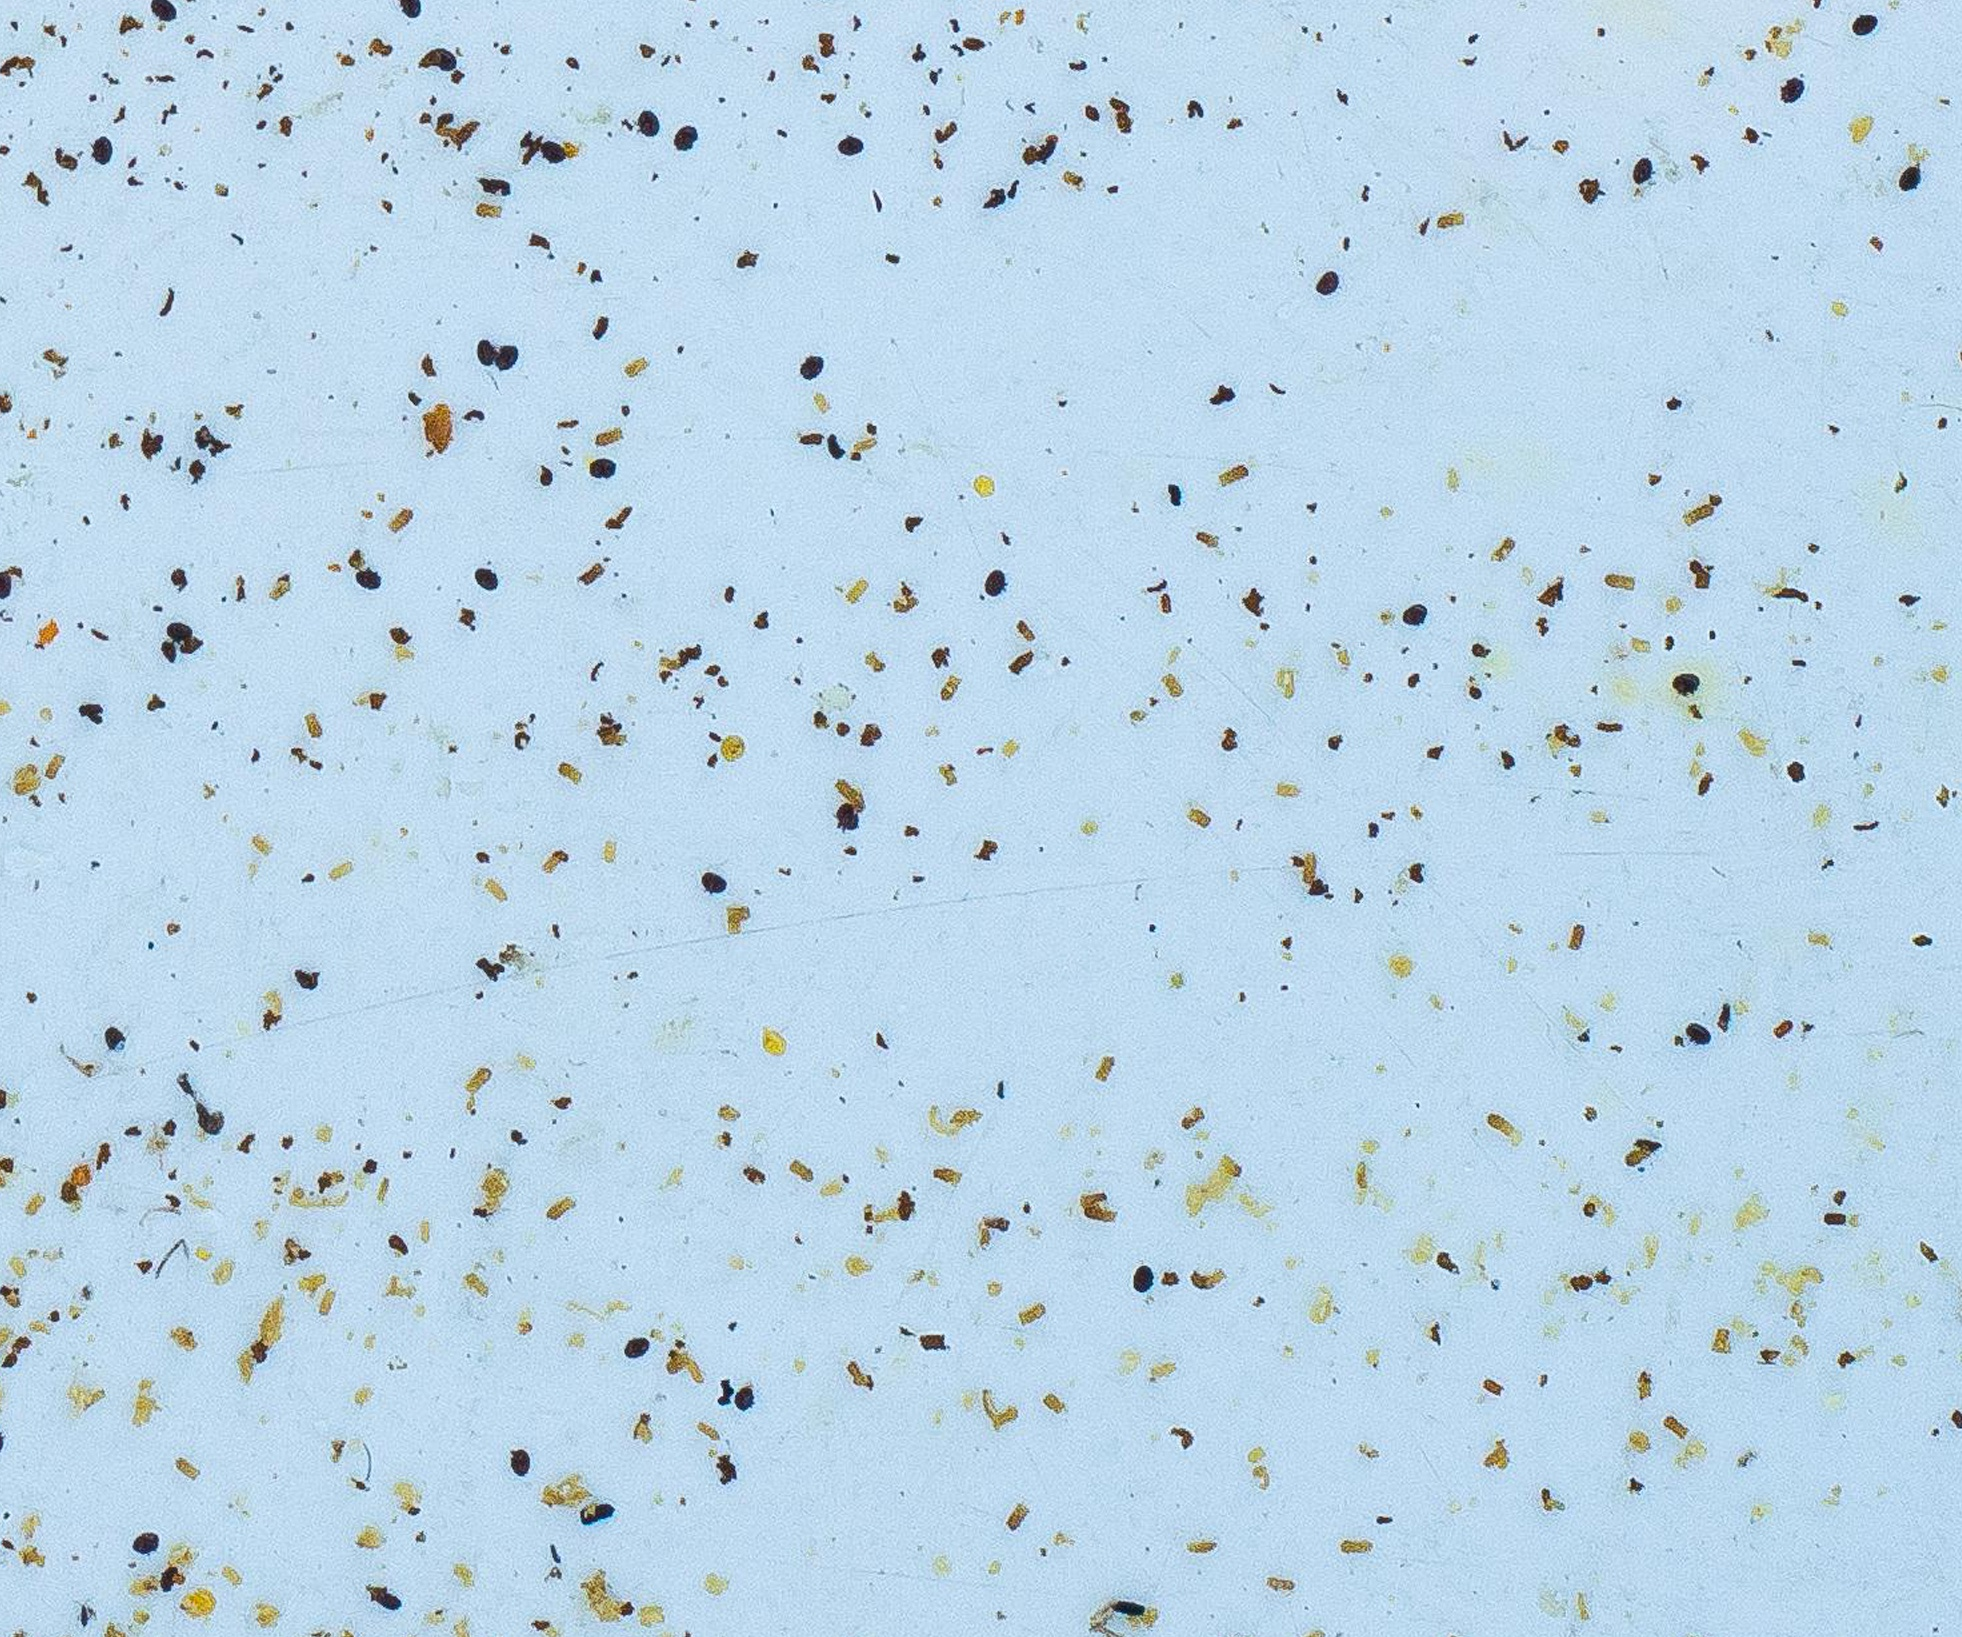Varroa: (971, 572, 1012, 612), (354, 552, 389, 595), (127, 1523, 166, 1560), (671, 119, 707, 160), (424, 46, 461, 83), (469, 564, 507, 599), (482, 339, 520, 375), (697, 863, 733, 901), (829, 129, 865, 165), (794, 355, 829, 391), (1621, 151, 1656, 189), (1846, 16, 1882, 50), (1894, 160, 1928, 195), (1126, 1261, 1159, 1298), (98, 1015, 130, 1052), (1304, 266, 1338, 300), (1667, 661, 1701, 696), (627, 108, 662, 142), (504, 1442, 536, 1477), (588, 448, 621, 482), (1398, 601, 1431, 635), (165, 617, 197, 652), (1682, 1026, 1714, 1059), (1778, 77, 1810, 109), (619, 1341, 653, 1371), (80, 138, 111, 173), (539, 132, 574, 163), (663, 112, 686, 142), (649, 125, 666, 148)
